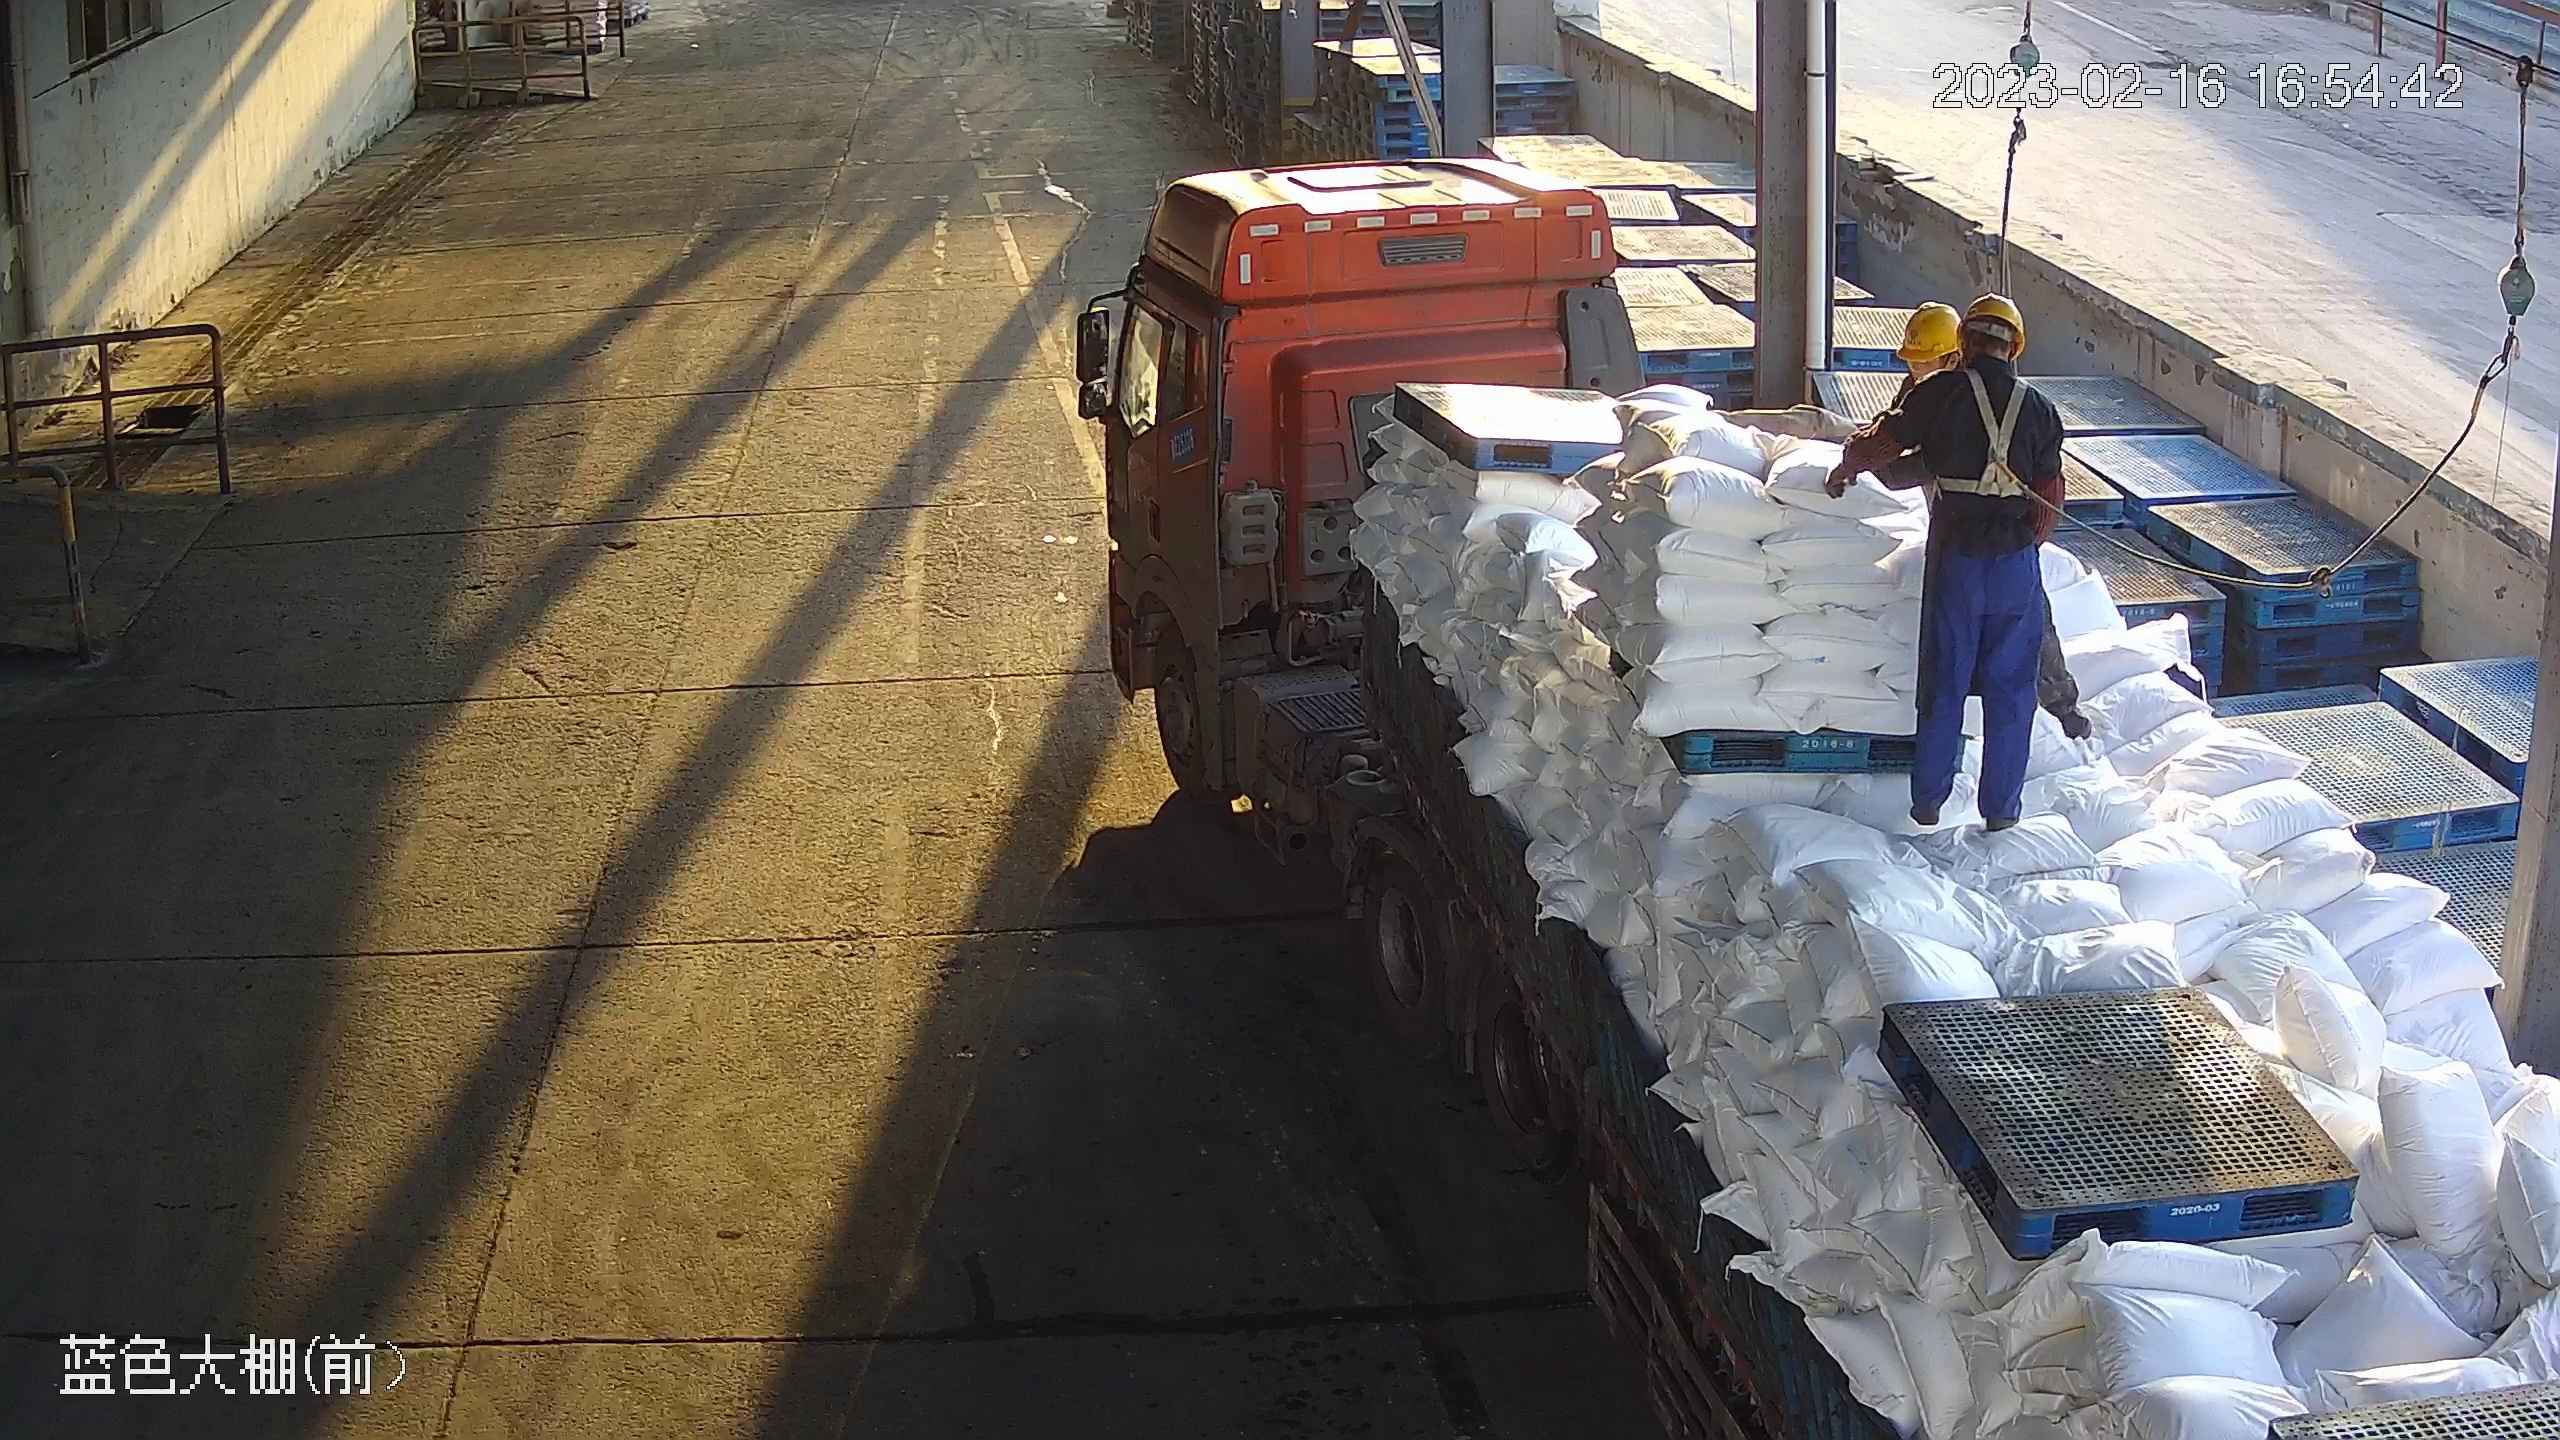belt: (1933, 375, 2052, 506)
head: (1919, 296, 2062, 443)
helmet: (1957, 290, 2026, 358), (1897, 302, 1962, 359)
people: (1822, 295, 2065, 840)
truck: (1074, 156, 2560, 1440)
